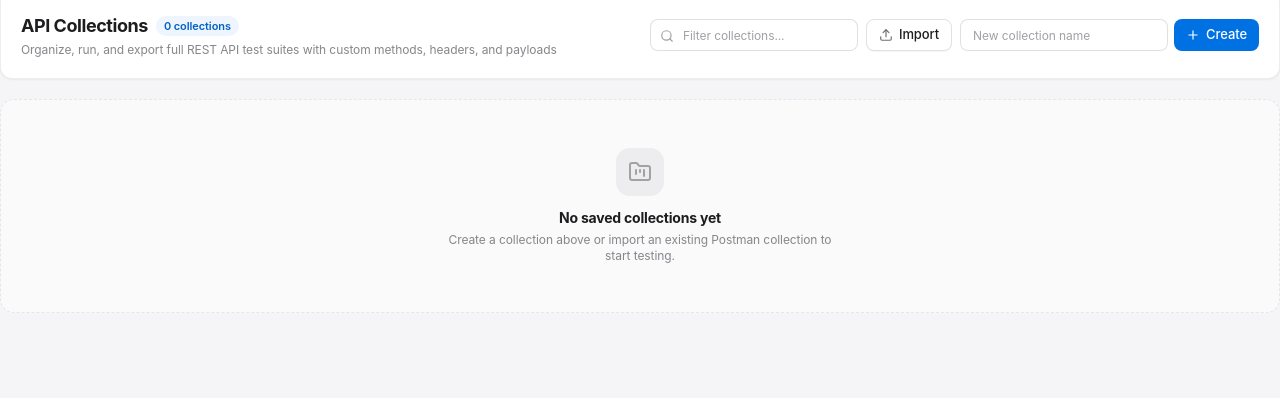
it: CollectionsPage Enhanced Features › creates a new collection and allows adding multiple HTTP method requests
# Create a collection
Step 1. Type "E-Commerce Suite" into the field labelled "collection name" → (1064, 35), box [960, 19, 1168, 51]
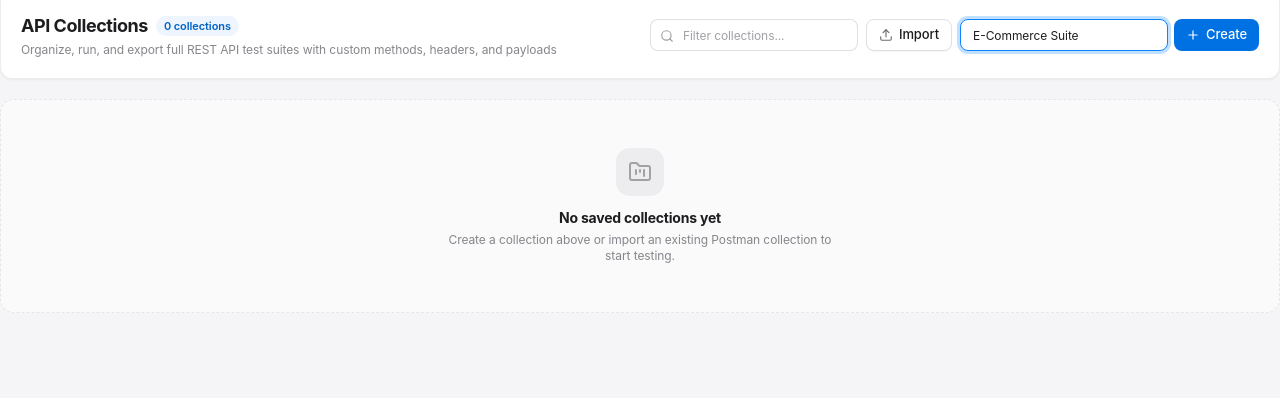
Step 2. Click the button "Create" → (1217, 35), box [1174, 19, 1259, 51]
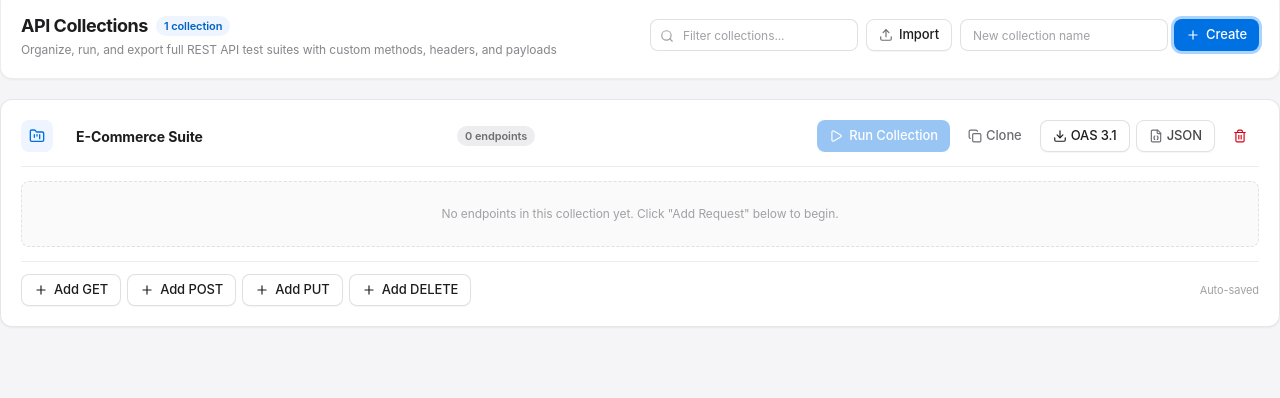
Expected: the field named "Collection E-Commerce Suite" is shown, [63, 120, 447, 152]
# Add a POST endpoint
Step 3. Click the button "Add POST" → (182, 290), box [127, 274, 236, 306]
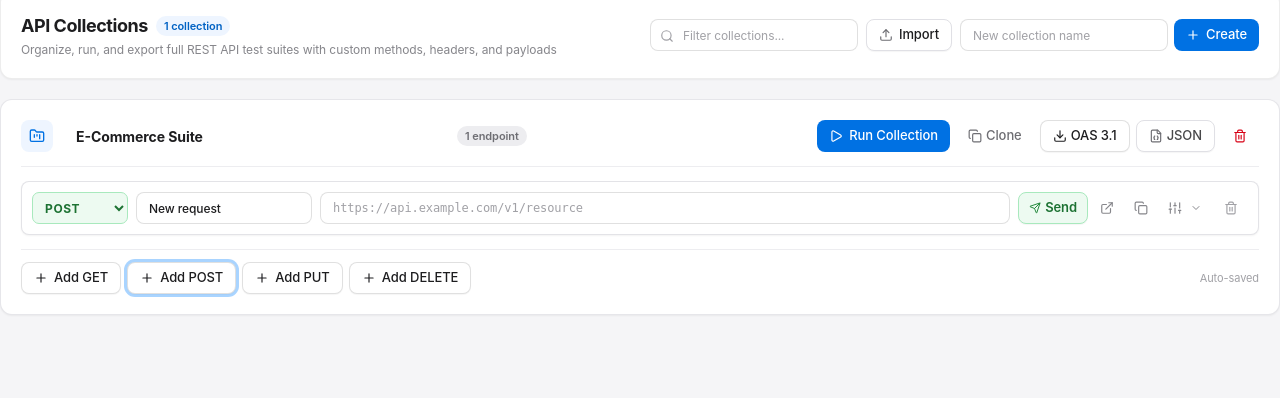
Expected: the dropdown named "Request 1 method" shows "POST", [32, 192, 128, 224]
# Add a DELETE endpoint
Step 4. Click the button "Add DELETE" → (410, 278), box [349, 262, 471, 294]
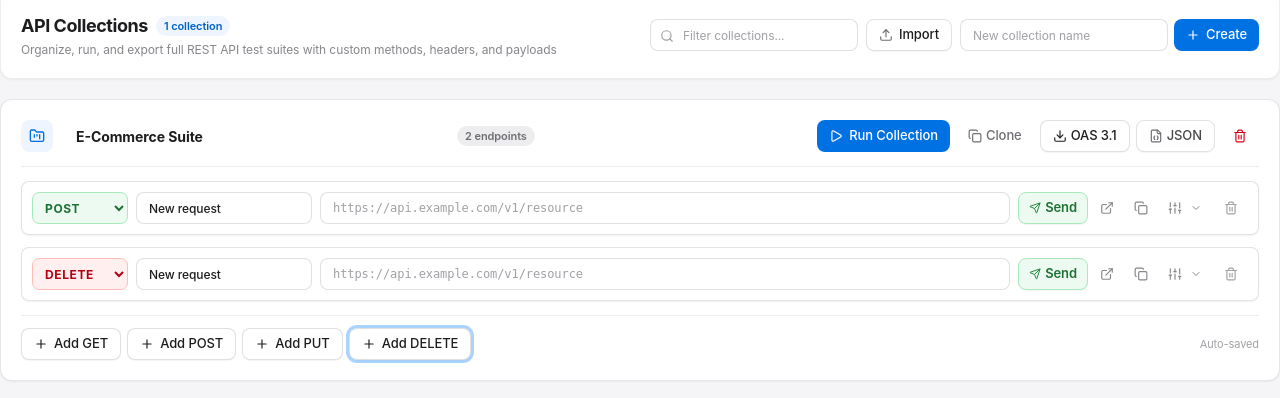
Expected: the dropdown named "Request 2 method" shows "DELETE", [32, 258, 128, 290]
